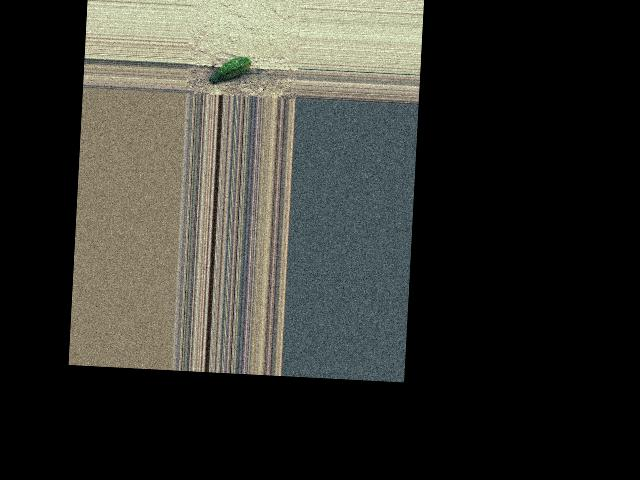cucumber: (210, 54, 251, 85)
